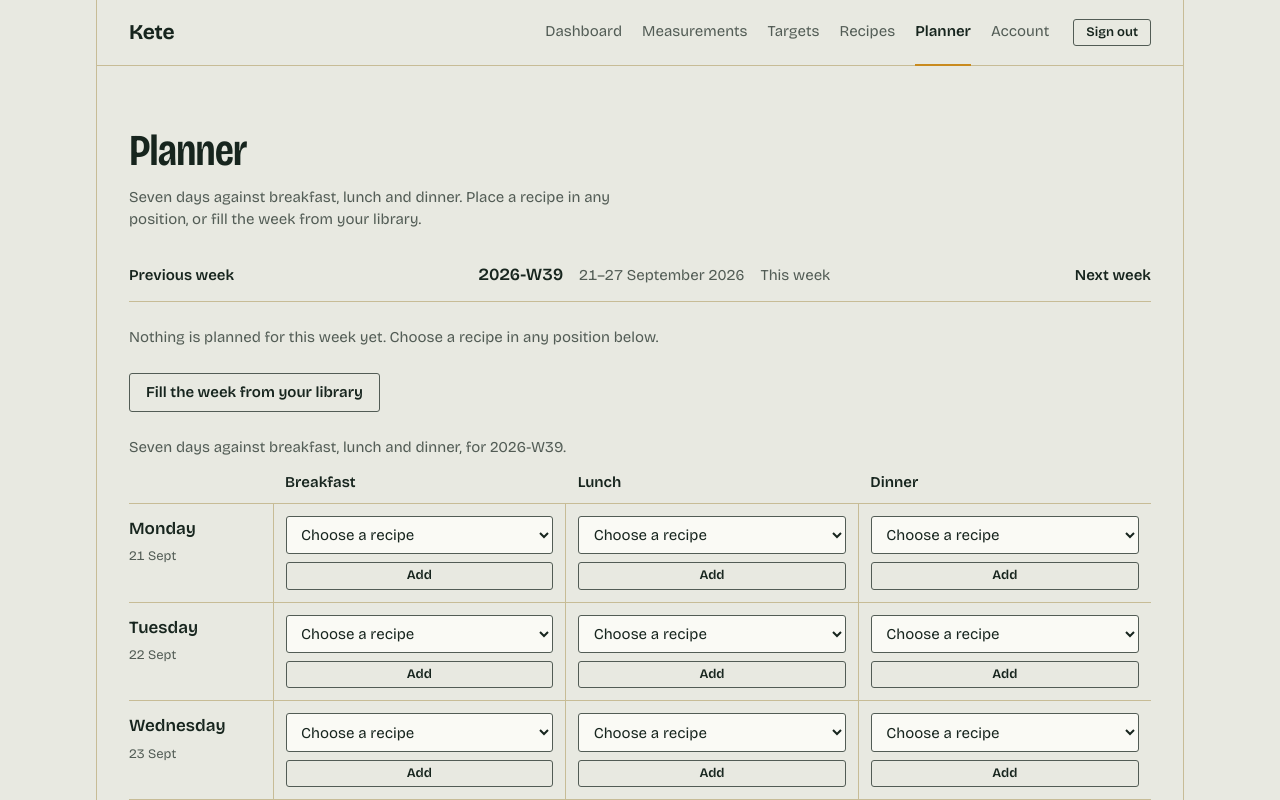
Test case: placing a recipe › keeps a stale recipe on the page rather than at the error boundary
Select "Kumara and lentil soup" in the dropdown named "Recipe for Monday breakfast" at (419, 535), box [286, 516, 553, 554]
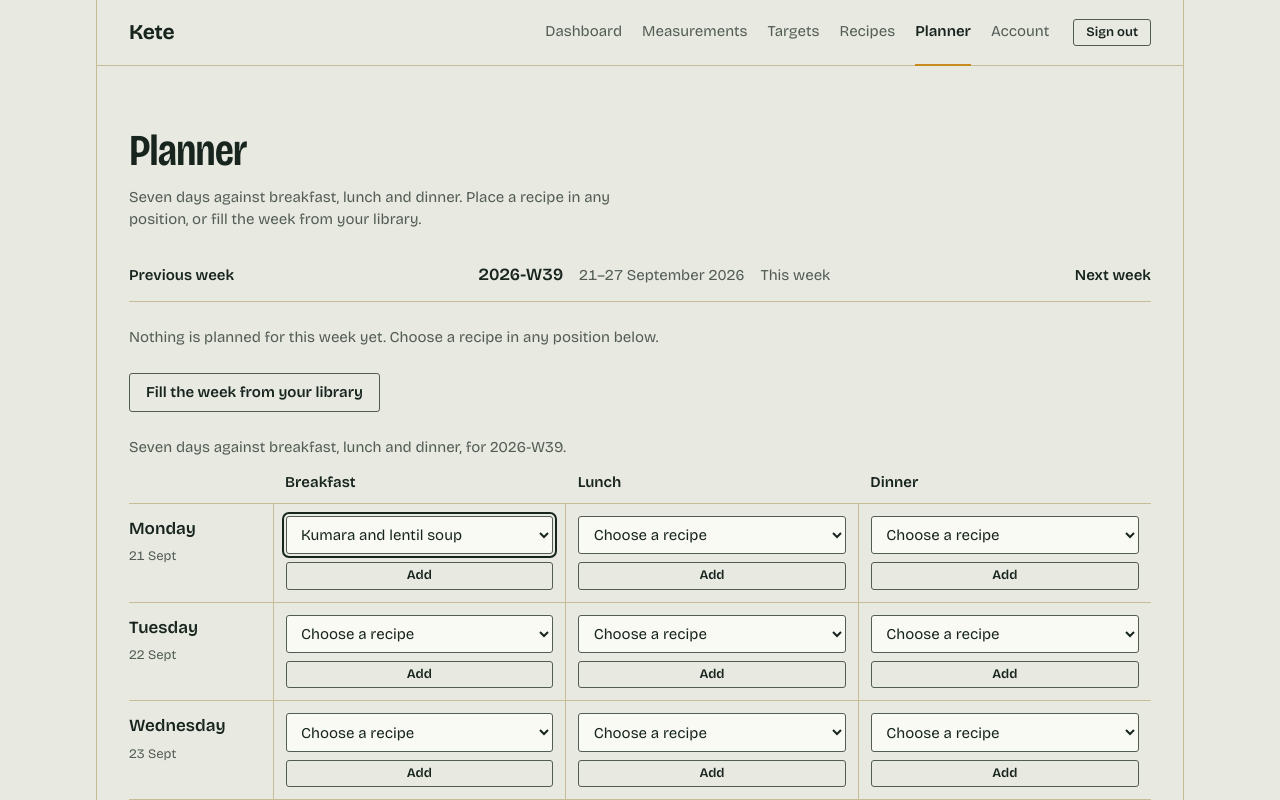
Click the button with aria-label "Add a recipe to Monday breakfast" at (419, 576), box [286, 562, 553, 590]
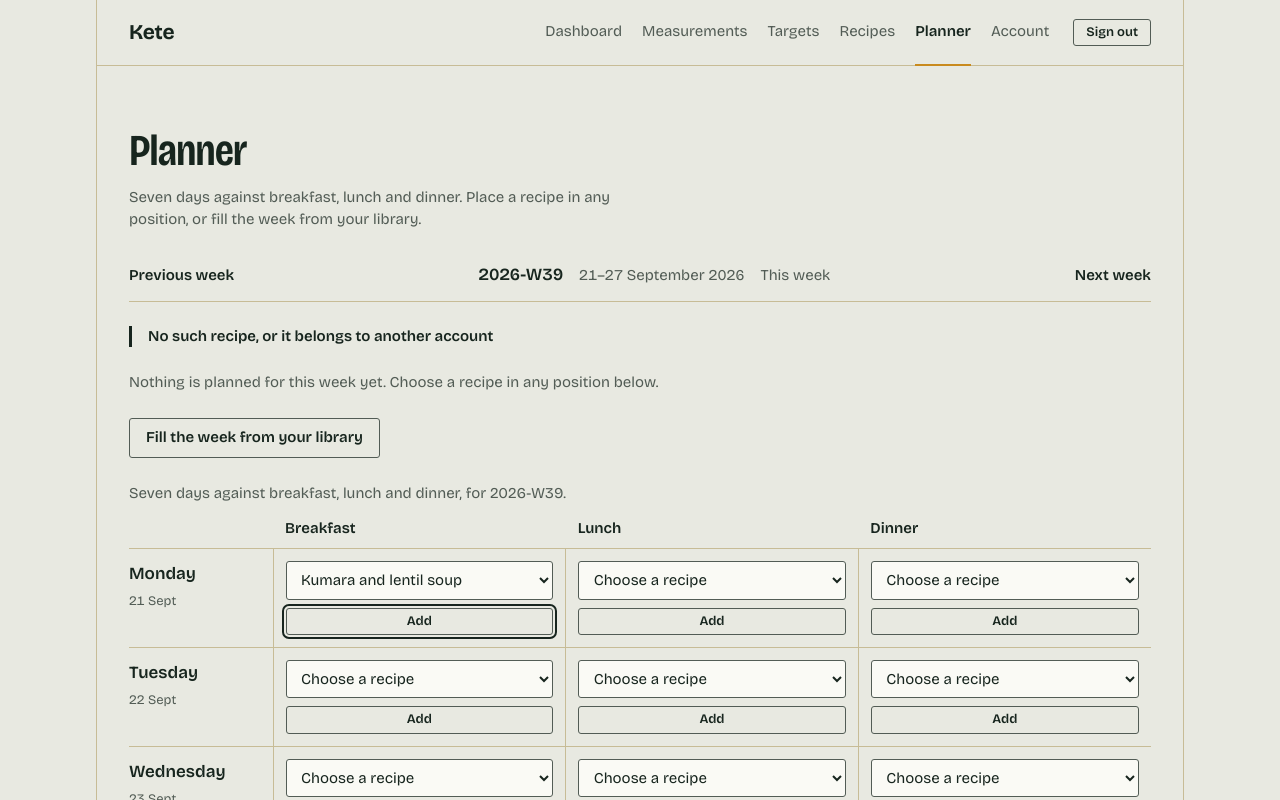
Expected: the message reads "No such recipe, or it belongs to another account", [148, 326, 493, 344]
